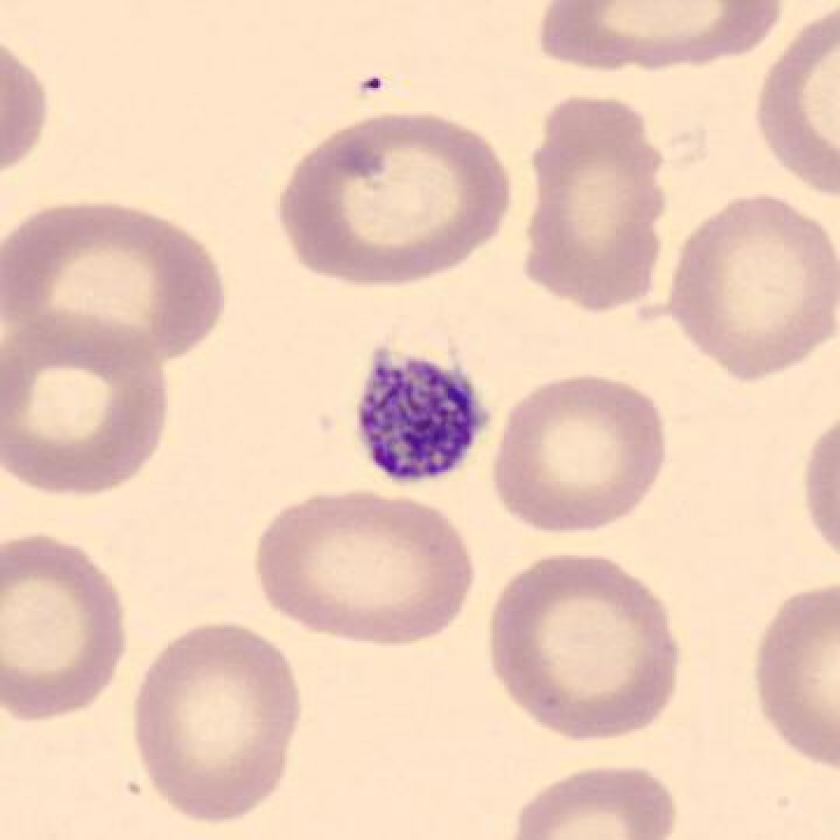platelets: (351, 336, 493, 494)
